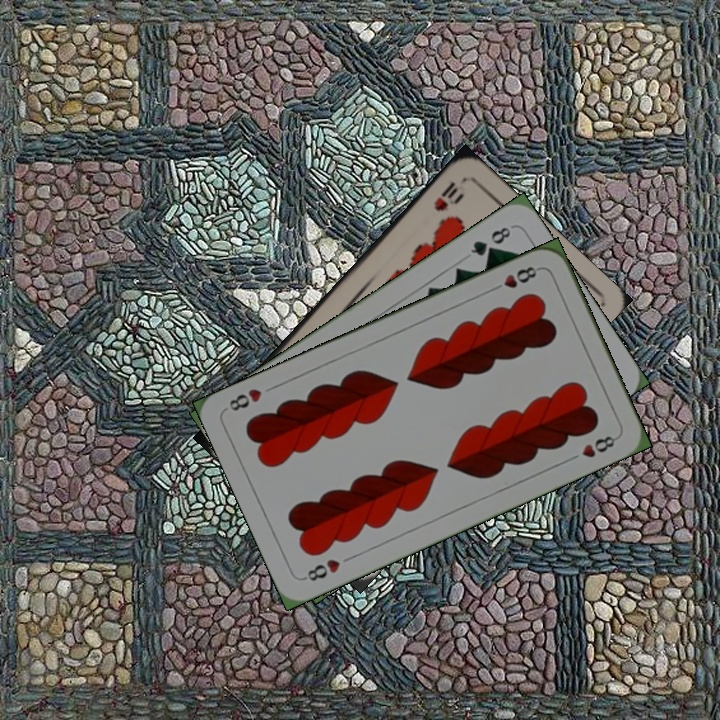G8: (466, 222, 515, 259)
H10: (430, 177, 465, 214)
H8: (487, 262, 543, 294), (299, 555, 343, 584)
